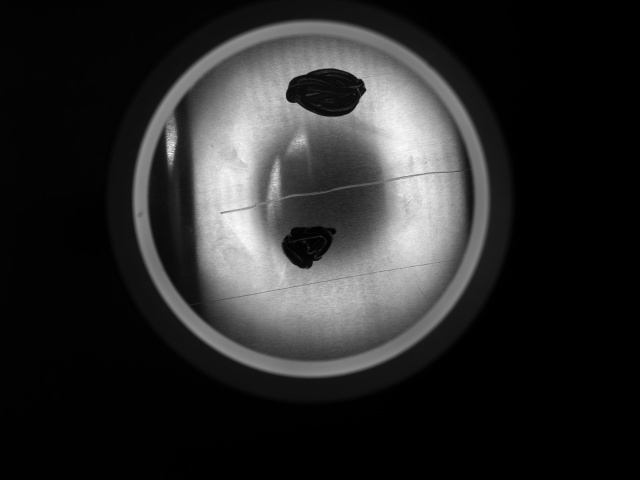ca_shang: (186, 256, 461, 304), (213, 164, 462, 217)
zang_wu: (282, 66, 372, 122), (276, 219, 339, 270)
